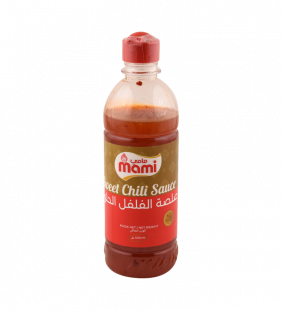MAMI: (98, 27, 185, 283)
